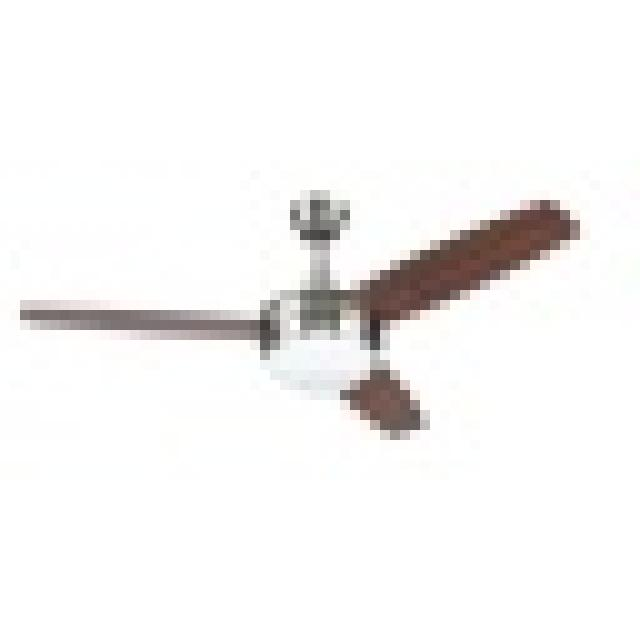Bulb: (12, 177, 614, 474)
